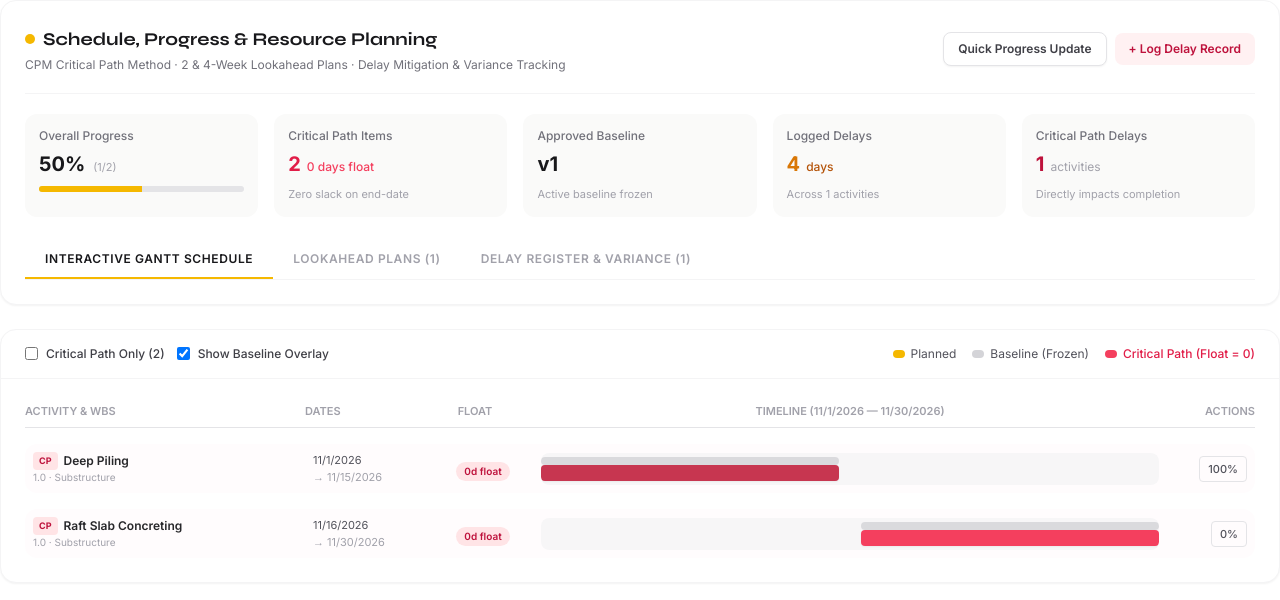
Test: ScheduleGanttSection Component › switches to Lookahead Plans tab and displays plan details
Click the button "Lookahead Plans (1)" at (367, 260), box [273,240,461,278]
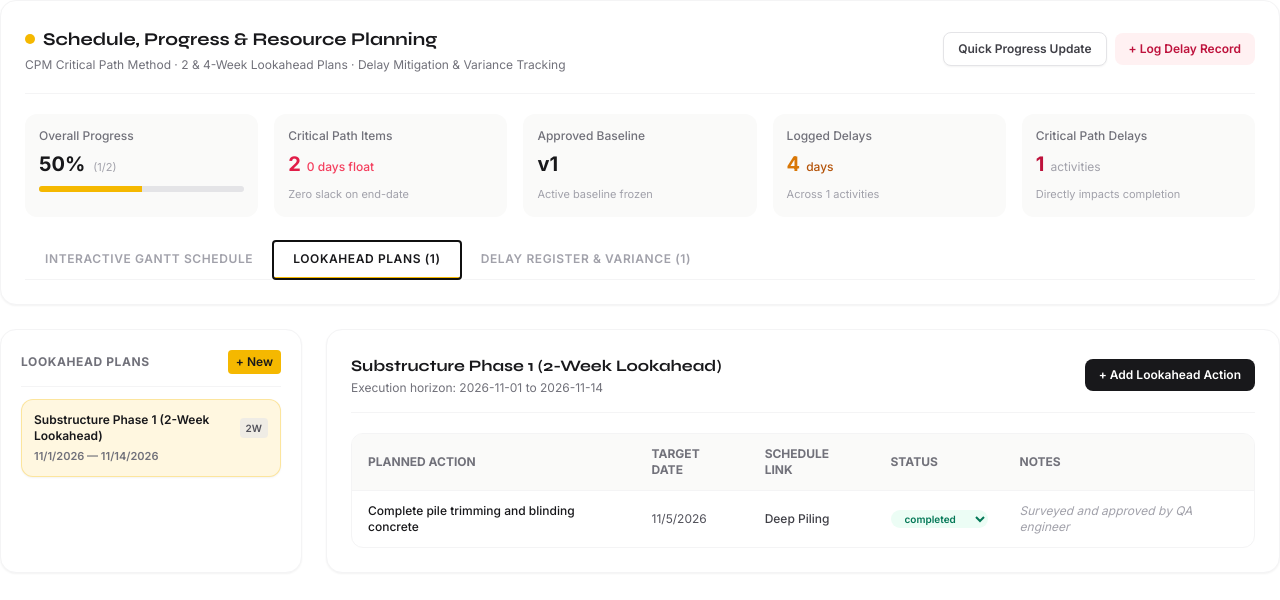
Result: the text "Substructure Phase 1 (2-Week Lookahead)" is shown at [34,412,240,444]
Result: the text "Complete pile trimming and blinding concrete" is shown at [352,490,636,546]
